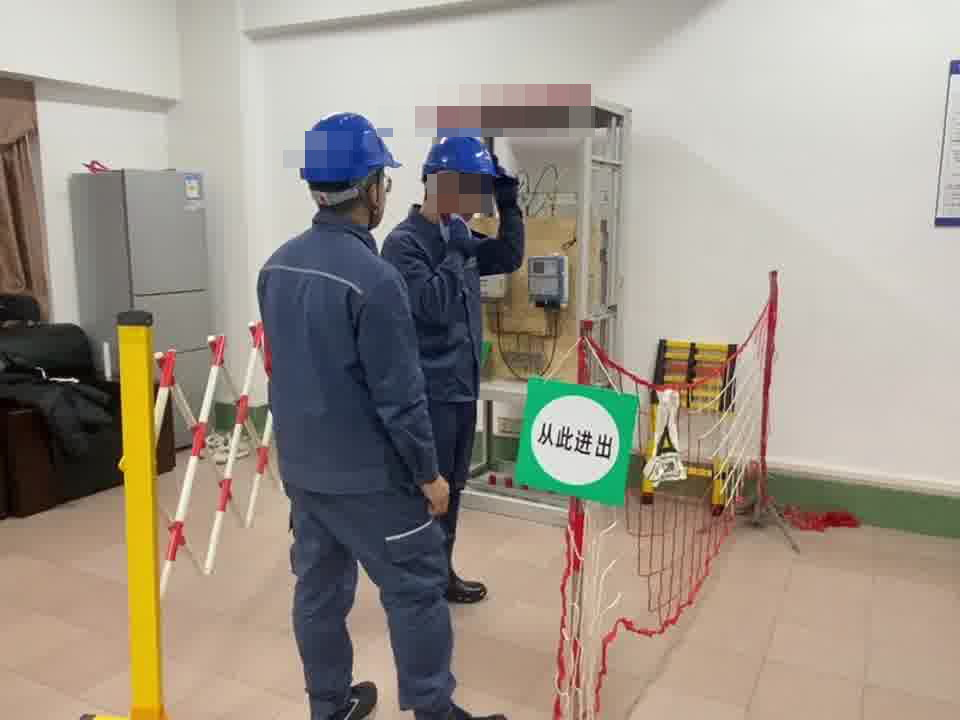downsuit: (291, 497, 461, 720)
glove: (489, 154, 523, 203), (447, 209, 475, 246)
halt: (299, 110, 400, 222), (419, 131, 504, 221)
hand: (422, 472, 452, 519)
inear: (354, 170, 389, 221), (424, 168, 459, 214)
intosign: (514, 375, 641, 509)
person: (249, 108, 478, 720)
upsuit: (256, 227, 438, 487), (405, 201, 525, 401)
